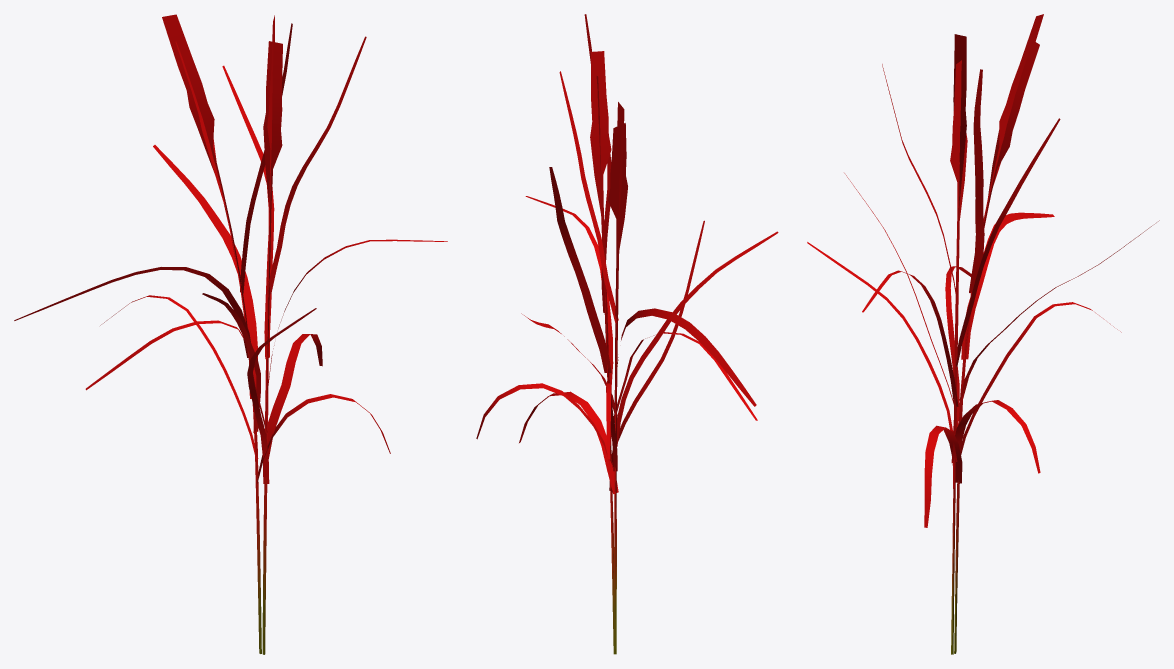
File: Var14_LOD0.fbx
3 views of the same model, side by side, from view 1: azimuth 30°, elevation 25°; view 2: azimuth 150°, elevation 25°; view 3: azimuth 270°, elevation 25° (orthographic). The views are drawn at different scales.
Parts seen in each view (by area): view 1: _745s_Var14_LOD0; view 2: _745s_Var14_LOD0; view 3: _745s_Var14_LOD0.
Part boxes in pixels (bbox=[...]): _745s_Var14_LOD0: bbox=[14, 14, 447, 654]; _745s_Var14_LOD0: bbox=[476, 14, 778, 654]; _745s_Var14_LOD0: bbox=[807, 14, 1159, 654].
Bounding box in the file's own units: 17 × 30.31 × 15.45.
